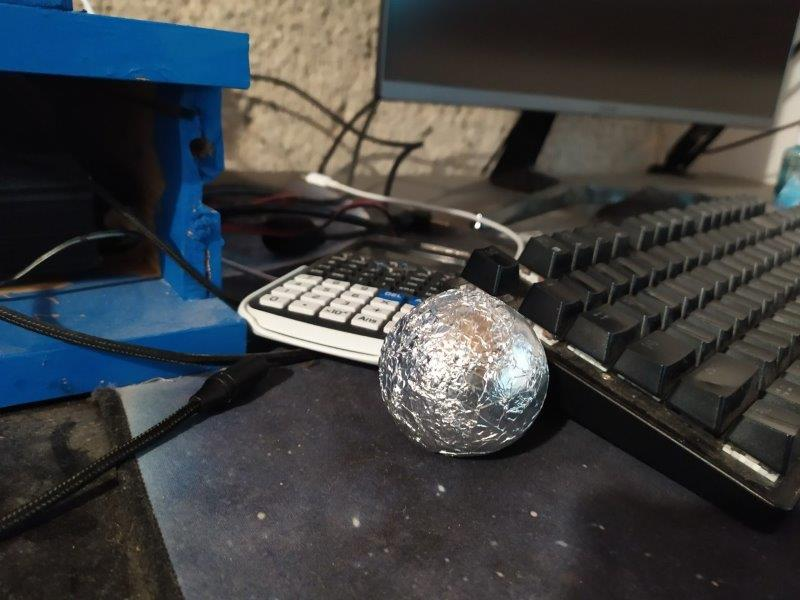bianca: (375, 284, 552, 462)
